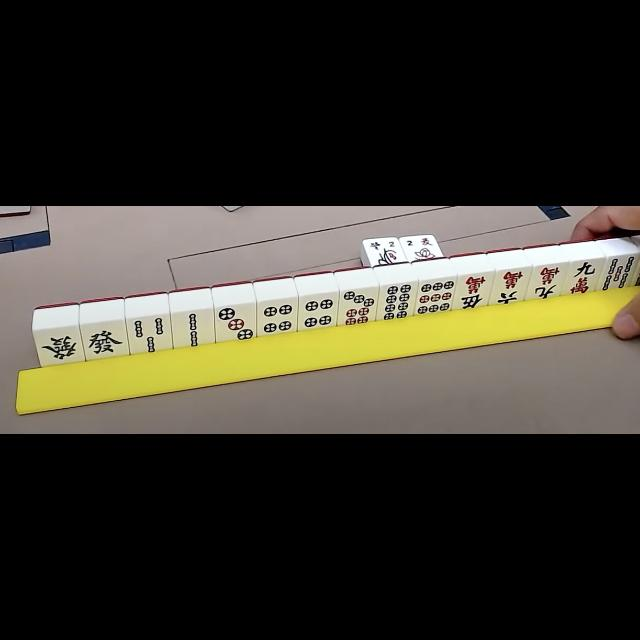b2: (172, 312, 216, 351)
b3: (130, 315, 170, 355)
b5: (600, 254, 634, 292)
c5: (454, 274, 490, 310)
c6: (493, 268, 529, 304)
c9: (530, 264, 564, 302), (565, 259, 599, 295)
d3: (216, 304, 256, 344)
d4: (258, 299, 296, 335), (298, 295, 336, 331)
d7: (339, 290, 377, 326)
d8: (379, 284, 415, 320)
d9: (416, 280, 454, 314)
dg: (82, 322, 126, 360), (35, 330, 81, 364)
f2: (366, 236, 400, 252)
s2: (403, 235, 437, 249)
